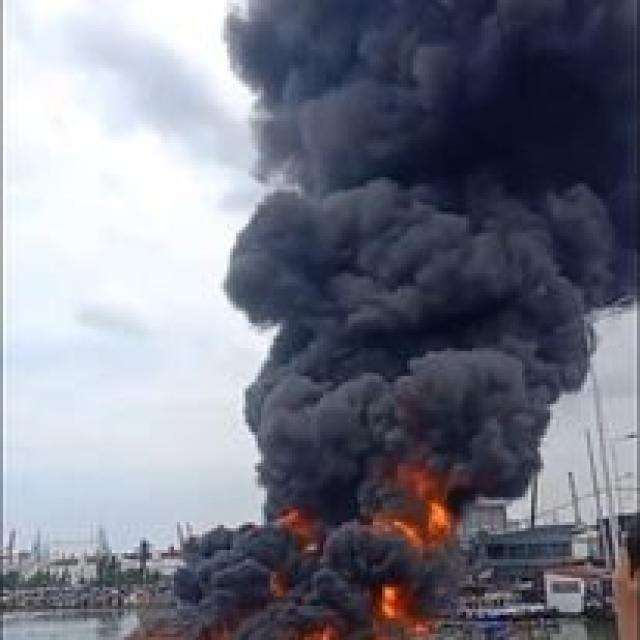Fire: (359, 444, 457, 556), (360, 578, 422, 640), (270, 498, 324, 558), (140, 609, 233, 640), (295, 614, 349, 640), (259, 564, 290, 602)
Smoke: (225, 0, 640, 328), (240, 322, 598, 508), (118, 506, 476, 640)
